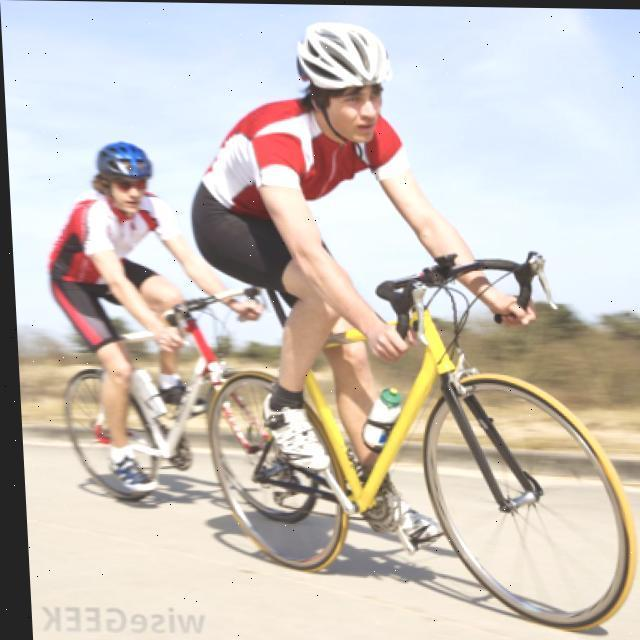Helmet: (290, 19, 399, 147), (83, 132, 165, 218)
